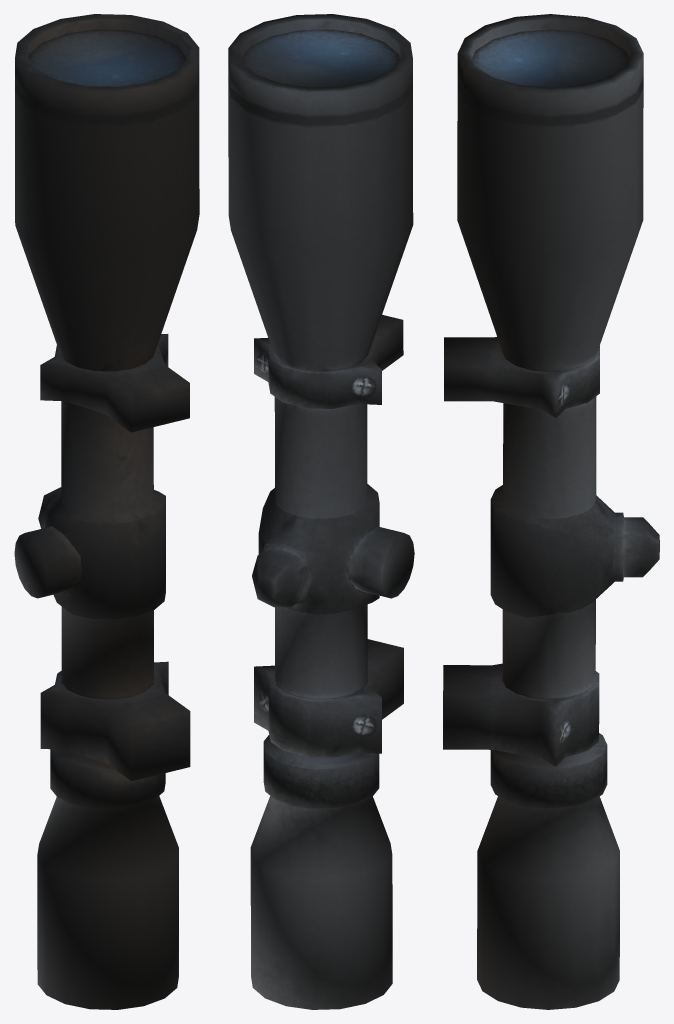
File: TLOG_x8Scope.fbx
3 renders of one model, left to right at view 1: azimuth 30°, elevation 25°; view 2: azimuth 150°, elevation 25°; view 3: azimuth 270°, elevation 25°, orthographic.
Parts seen in each view (by area): view 1: Scope.002; view 2: Scope.002; view 3: Scope.002.
Boxes of the visible parts, x1,y1,x2,y2 form: Scope.002: (14,14,199,1009); Scope.002: (228,14,414,1009); Scope.002: (443,14,659,1009).
Size of the model in its own units: 0.0298 by 0.1638 by 0.0347.
